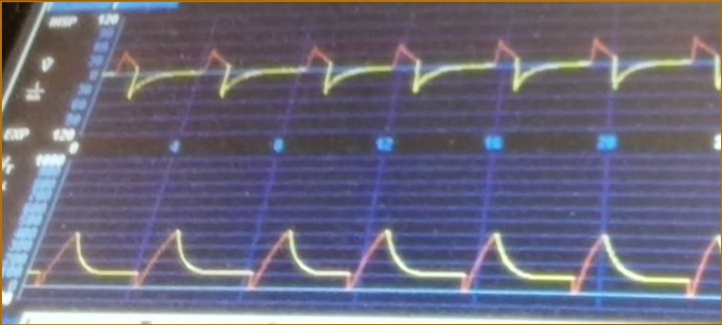Flow: (113, 23, 722, 123)
Leakage Volume: (50, 193, 721, 311)
